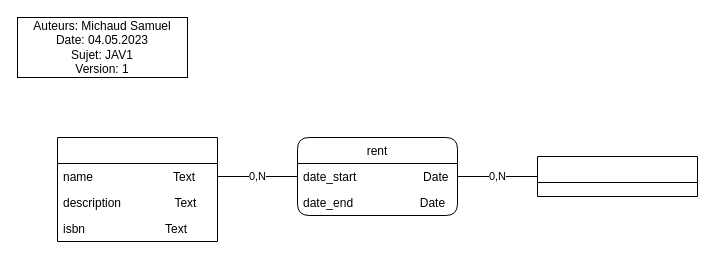
This 715x262 diagram has some shape labels left out. Here are the shapes that lost their labels. From the top down, the box of each, then its label:
(56, 136, 218, 242): books
(536, 156, 698, 196): google contact
